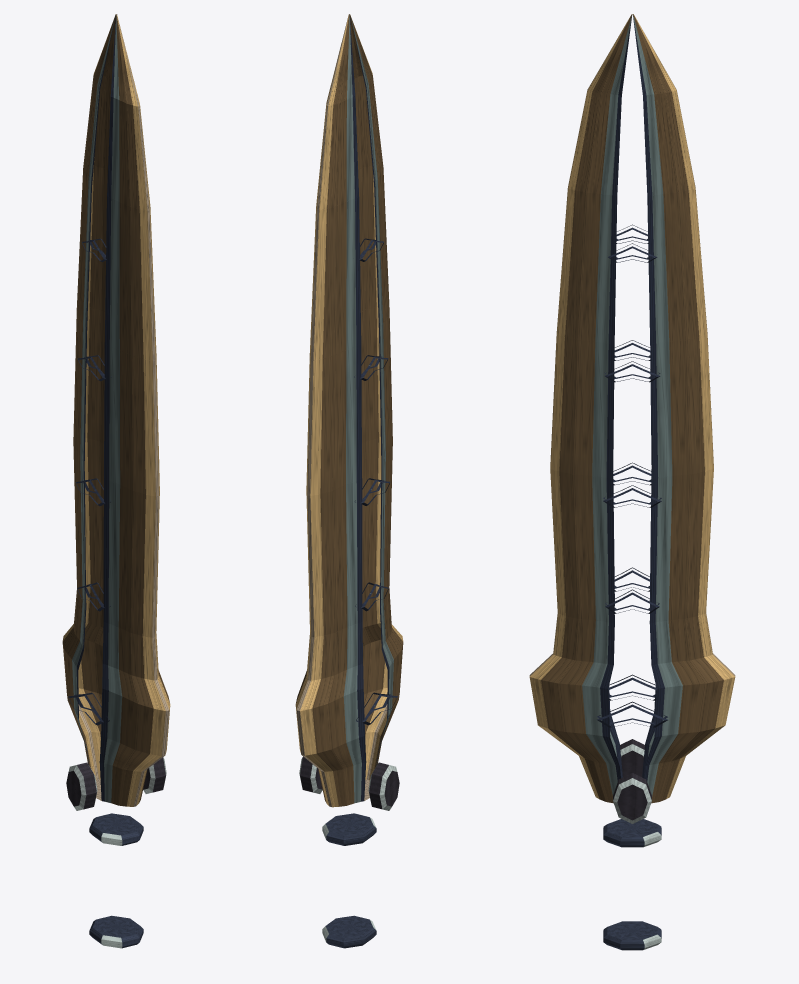
The model's file is primordial_companion_sword_spirit_transformation.obj.
3 views of the same model, side by side, from view 1: azimuth 30°, elevation 25°; view 2: azimuth 150°, elevation 25°; view 3: azimuth 270°, elevation 25° (orthographic).
Parts seen in each view (by area): view 1: geometry; view 2: geometry; view 3: geometry.
Boxes of the visible parts, x1=… form: geometry: x1=62, y1=14, x2=170, y2=948; geometry: x1=295, y1=14, x2=403, y2=948; geometry: x1=529, y1=14, x2=735, y2=950.
Size of the model in its own units: 0.1645 by 1.74 by 0.5063.
